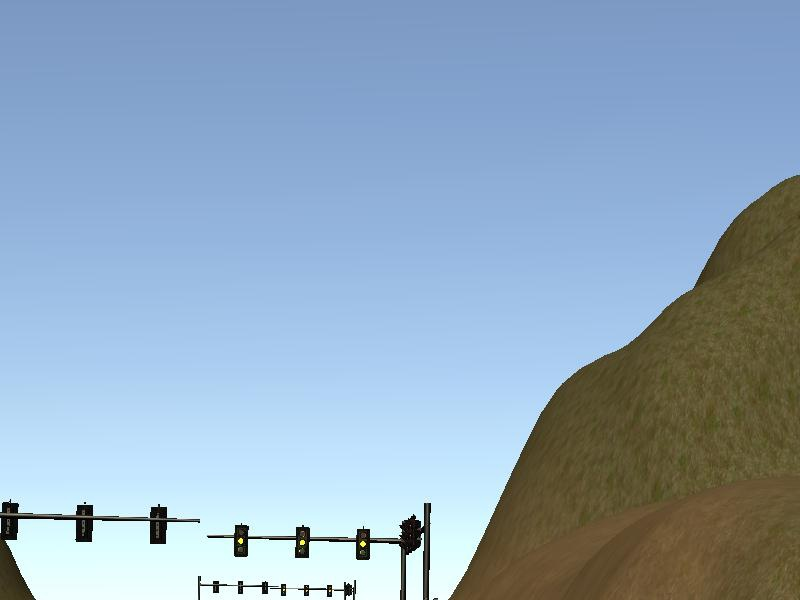yellow_light: (235, 525, 249, 555), (357, 529, 370, 560), (296, 528, 309, 556)
